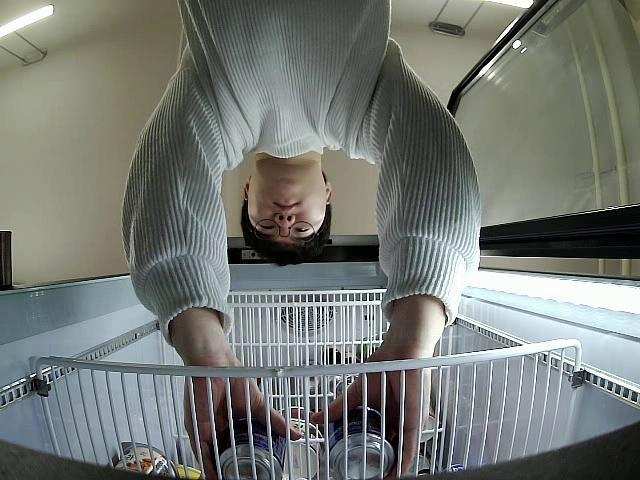14_welchsGrape: (321, 402, 396, 480), (212, 412, 288, 480)
